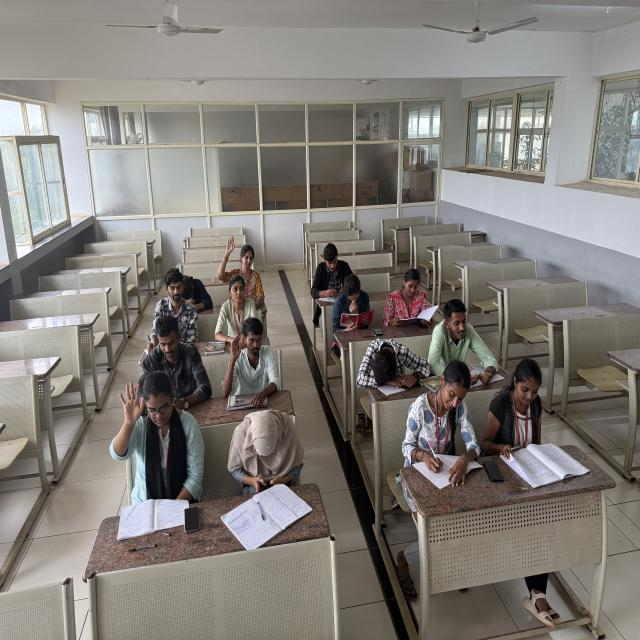Hand Rising: (104, 367, 206, 508), (219, 313, 285, 399), (219, 232, 257, 287)
Reading: (382, 267, 442, 328), (331, 271, 376, 329)
Sleeping: (355, 333, 430, 398), (174, 268, 218, 314)
Using Phone: (133, 314, 212, 412), (222, 409, 305, 492)
Writing: (484, 358, 577, 484), (404, 362, 482, 485), (141, 269, 196, 352), (307, 241, 352, 302)
